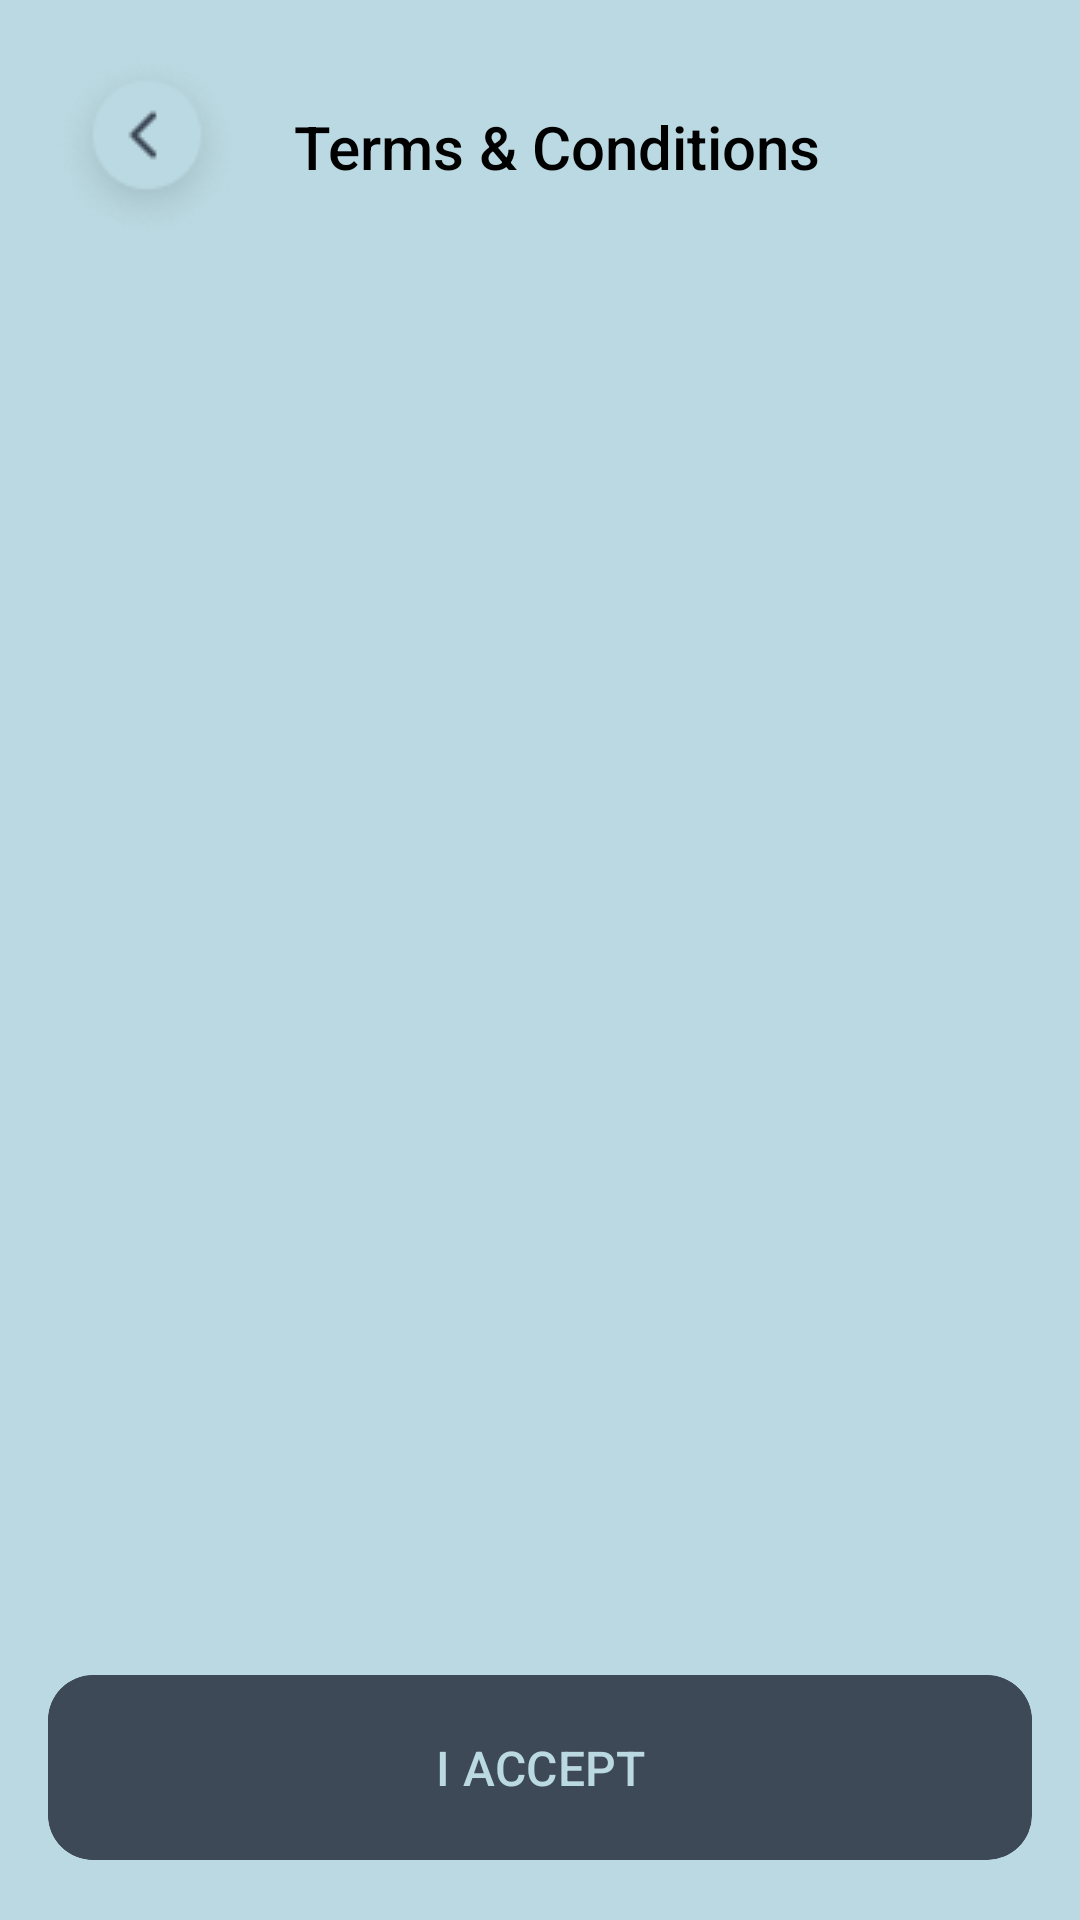

Icons on this 1080px x 1920px Android screen, each with its box as (x1,y1,x2,y2):
Back: (129,111,157,159)
